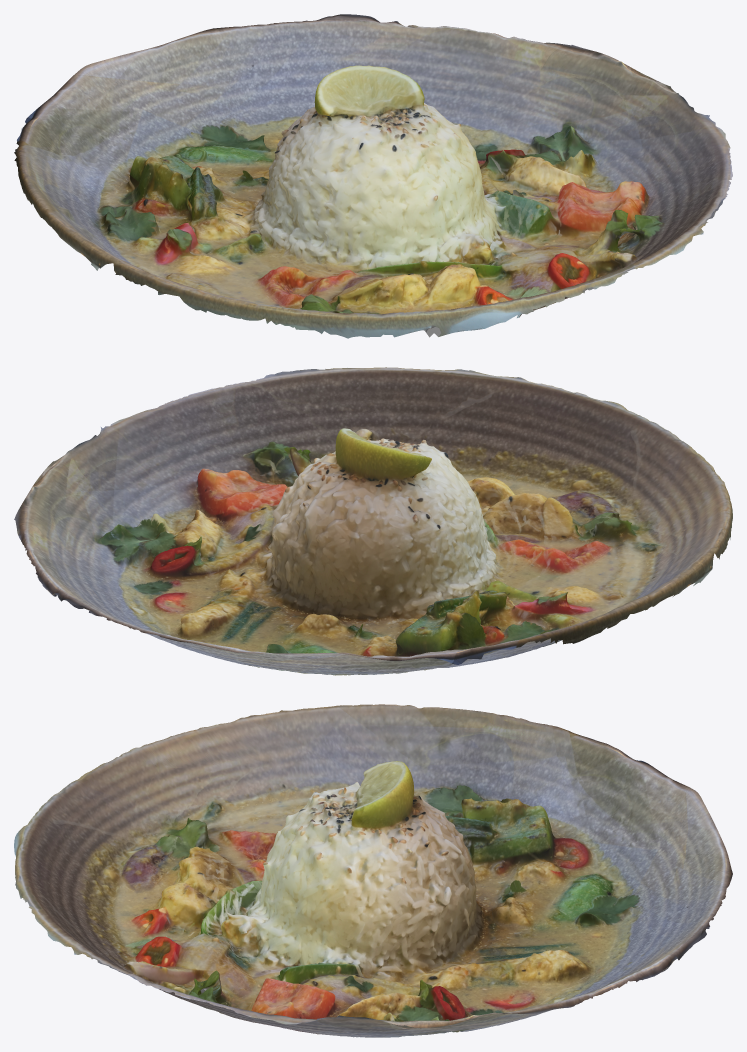
File: wagamama_chicken_raisukaree.glb
The picture shows the model from 3 angles, top to bottom: view 1: azimuth 30°, elevation 25°; view 2: azimuth 150°, elevation 25°; view 3: azimuth 270°, elevation 25°; orthographic projection.
Parts seen in each view (by area): view 1: Object_7, Object_3, Object_5, Object_4, Object_6; view 2: Object_4, Object_7, Object_3, Object_5, Object_6; view 3: Object_3, Object_4, Object_6, Object_7, Object_5.
Part boxes in pixels (x1,y1,x2,y2): Object_7: [57, 14, 730, 338]; Object_3: [20, 57, 677, 318]; Object_5: [14, 15, 577, 314]; Object_4: [27, 89, 732, 290]; Object_6: [60, 82, 617, 337]; Object_4: [80, 367, 653, 675]; Object_7: [14, 407, 732, 674]; Object_3: [197, 404, 708, 674]; Object_5: [19, 448, 709, 649]; Object_6: [130, 378, 718, 666]; Object_3: [46, 736, 709, 1025]; Object_4: [16, 719, 629, 1037]; Object_6: [14, 704, 657, 981]; Object_7: [82, 710, 732, 1036]; Object_5: [85, 704, 698, 1028].
Bounding box in the file's own units: 4.06 × 1 × 4.07.
Materials: 6 (5 with a texture image).
